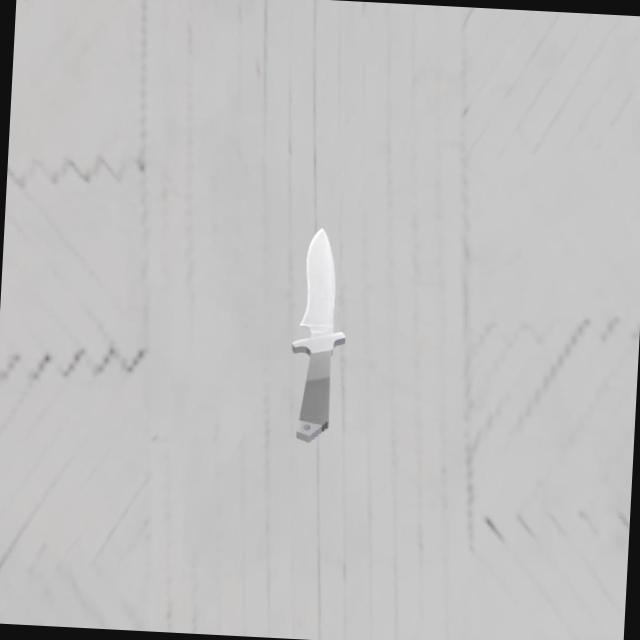knife: (299, 348, 331, 428)
